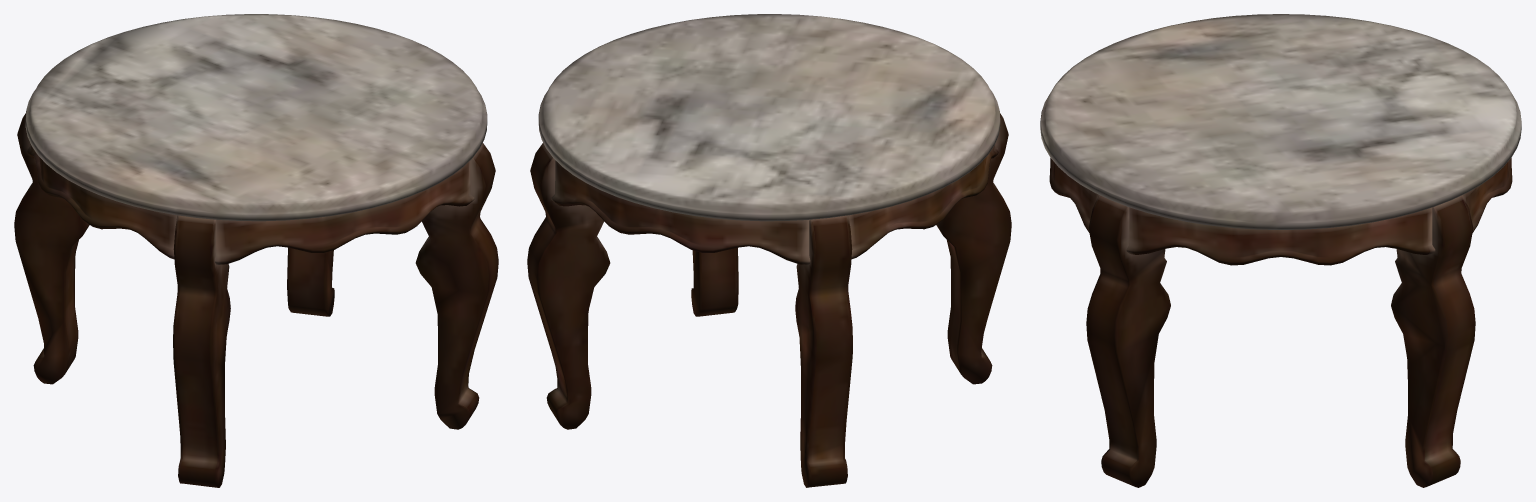
Rendered from victorian-side-table.gltf.
The picture shows the model from 3 angles, left to right: view 1: azimuth 30°, elevation 25°; view 2: azimuth 150°, elevation 25°; view 3: azimuth 270°, elevation 25°; orthographic projection. The views are drawn at different scales.
Parts seen in each view (by area): view 1: Sketchfab_model; view 2: Sketchfab_model; view 3: Sketchfab_model.
Part boxes in pixels (x1=…): Sketchfab_model: x1=14, y1=14, x2=498, y2=487; Sketchfab_model: x1=527, y1=14, x2=1011, y2=487; Sketchfab_model: x1=1040, y1=14, x2=1521, y2=487.
Bounding box in the file's own units: 0.752 × 0.5198 × 0.752.
2 materials, 2 textured.
